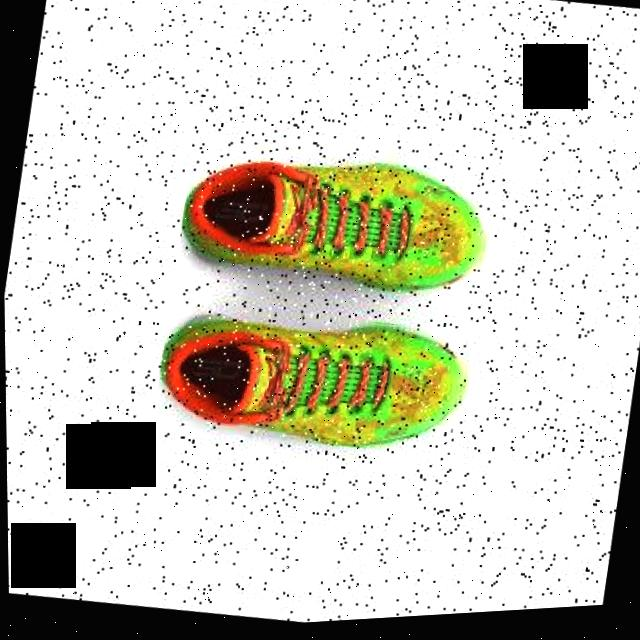shoe: (150, 288, 474, 477), (174, 135, 497, 318)
